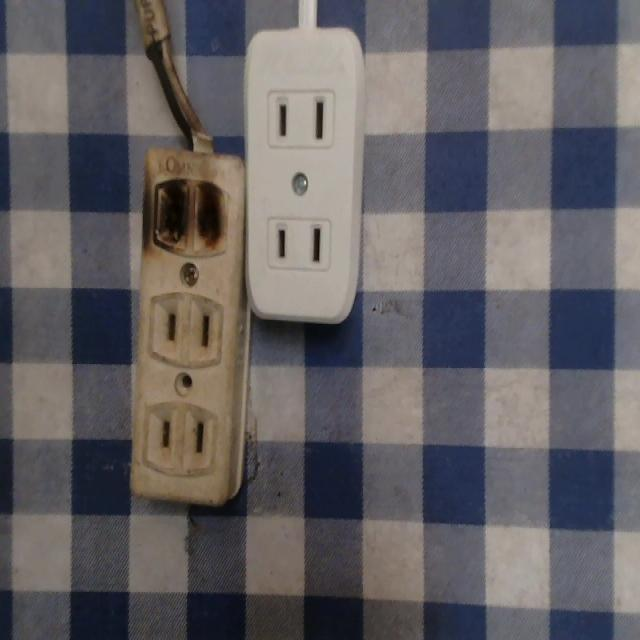-: (141, 165, 235, 263)
